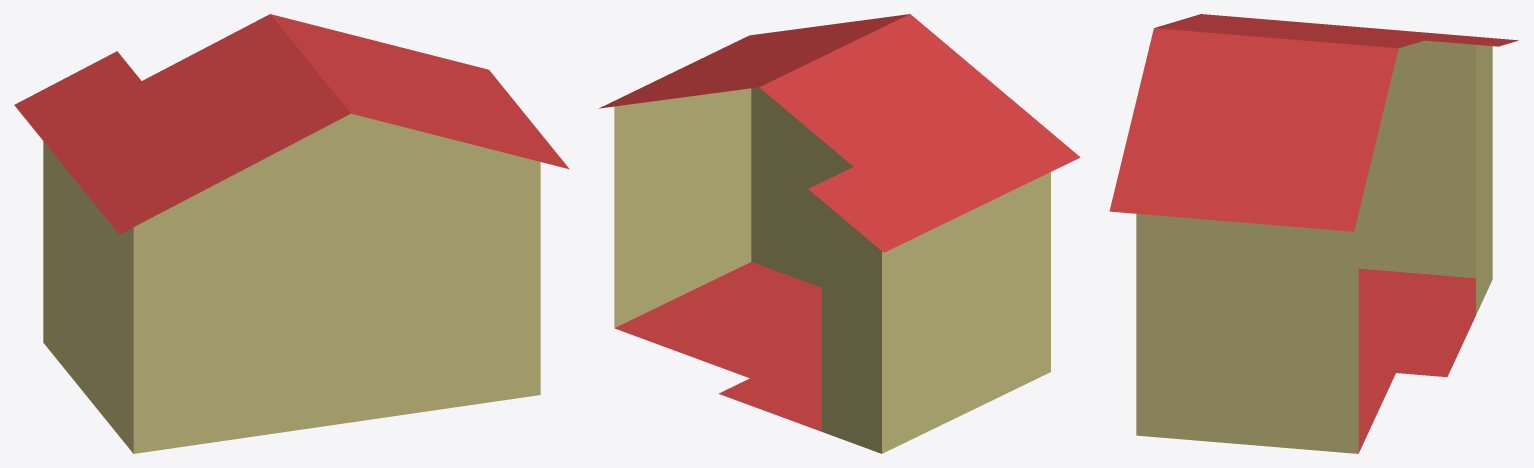
3 views of the same model, side by side, from view 1: azimuth 30°, elevation 25°; view 2: azimuth 150°, elevation 25°; view 3: azimuth 270°, elevation 25° (orthographic). The views are drawn at different scales.
Size of the model in its own units: 11.22 by 8.93 by 7.67.
